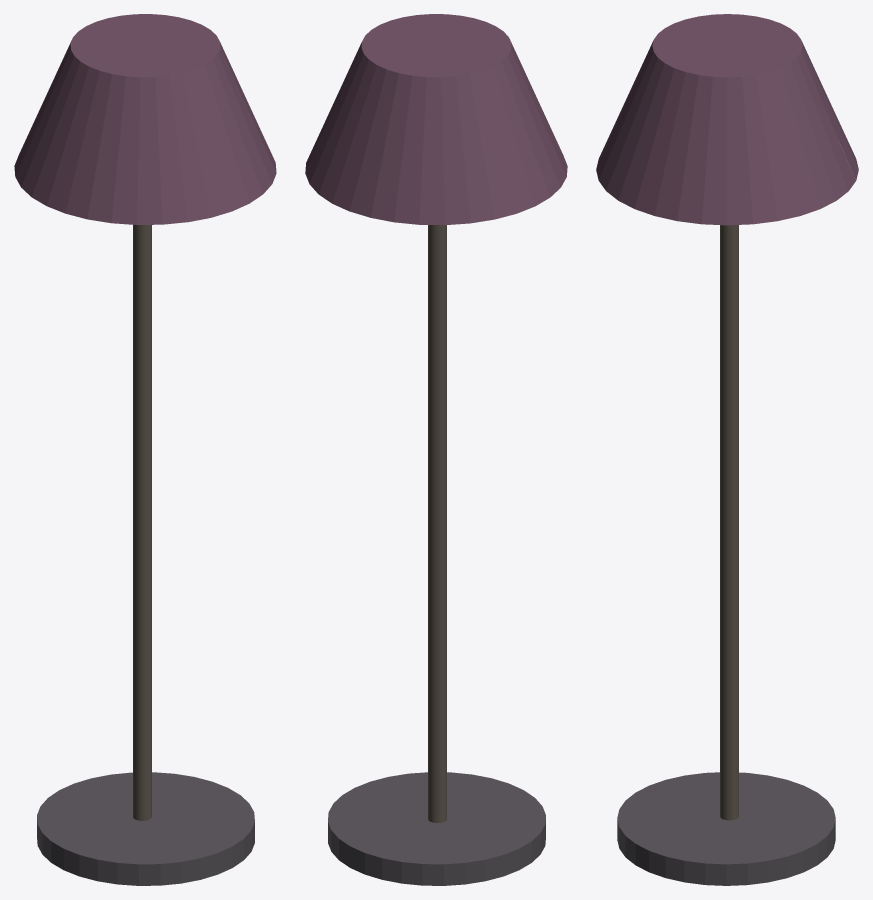
Rendered from lamp.fbx.
3 views of the same model, side by side, from view 1: azimuth 30°, elevation 25°; view 2: azimuth 150°, elevation 25°; view 3: azimuth 270°, elevation 25° (orthographic).
Parts seen in each view (by area): view 1: Circle.001; view 2: Circle.001; view 3: Circle.001.
Part boxes in pixels (<box>): Circle.001: <box>14,14,276,885</box>; Circle.001: <box>305,14,567,885</box>; Circle.001: <box>596,14,858,885</box>.
Bounding box in the file's own units: 50.11 × 167 × 50.11.
